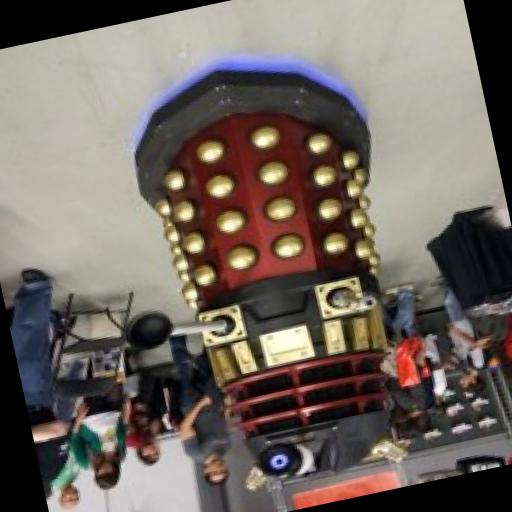dalek: (62, 35, 463, 512)
